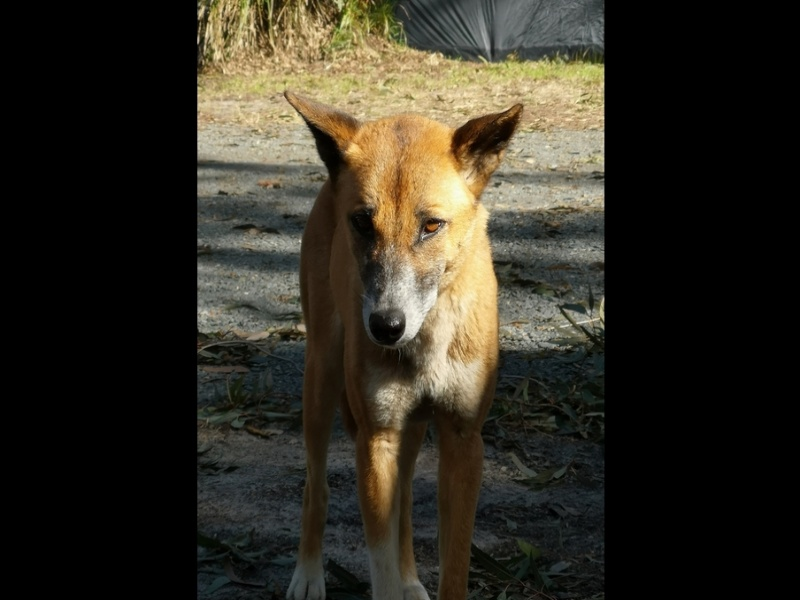dog: (259, 80, 535, 600)
